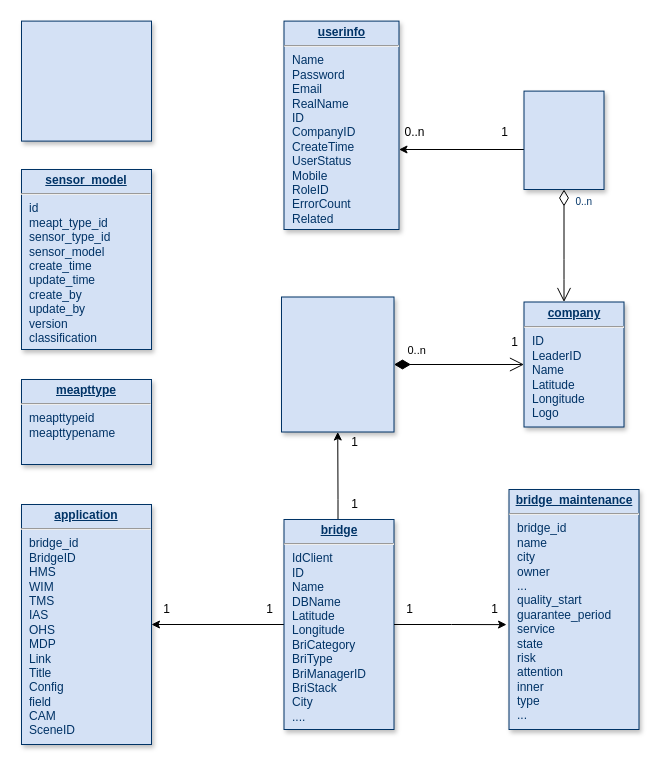
The diagram is 663 pixels wide and 770 high, and some of its shapes have lost their labels. Here are the shapes that lost their labels. From the top down, the centre of each, then its label:
(x=87, y=82): sensortype id sensor_name sensor_id meapt_name meapt_id
(x=564, y=141): role ID Name Authority
(x=338, y=365): companybridge IdCalendar CompanyID BridgeID BeginDate EndDate IsActive
